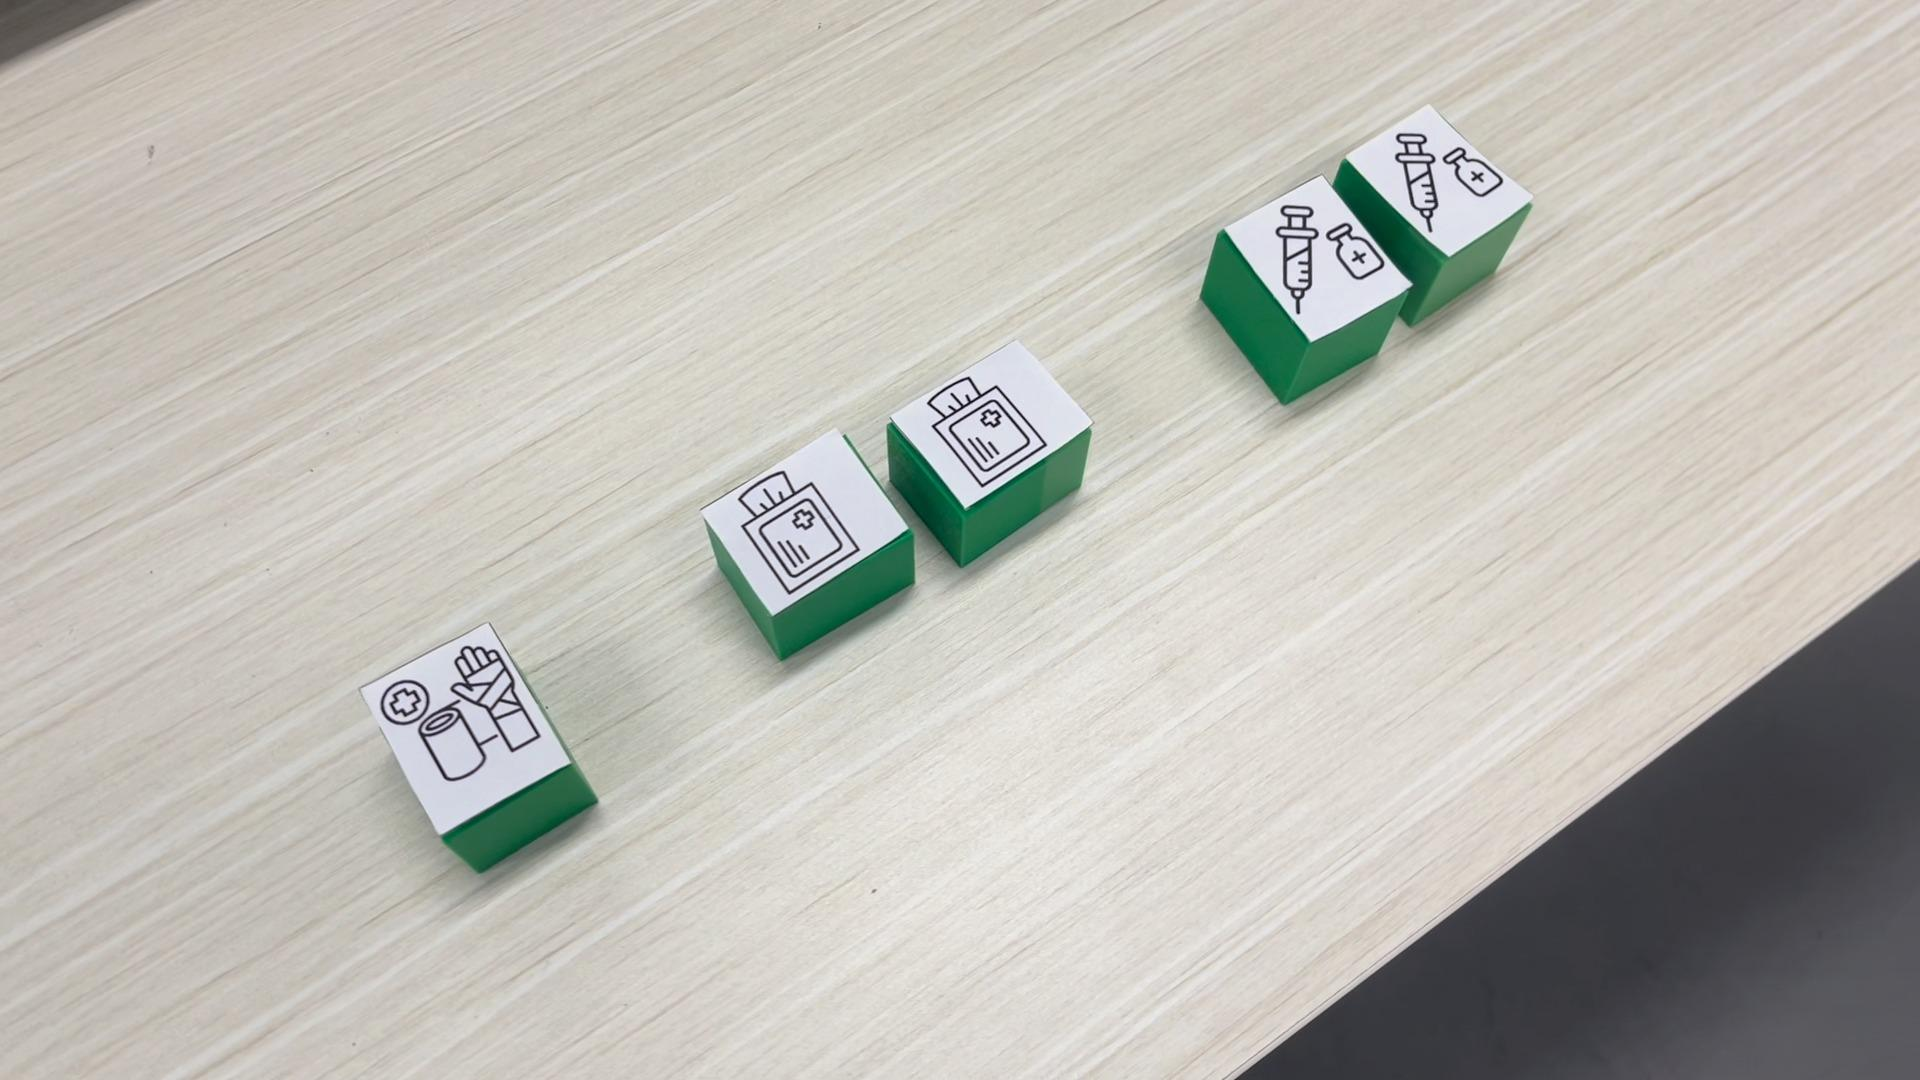Bandages: (355, 622, 600, 872)
Gauze: (695, 429, 914, 661), (880, 338, 1096, 566)
antiseptic cream: (1199, 173, 1411, 405), (1344, 102, 1535, 249)
